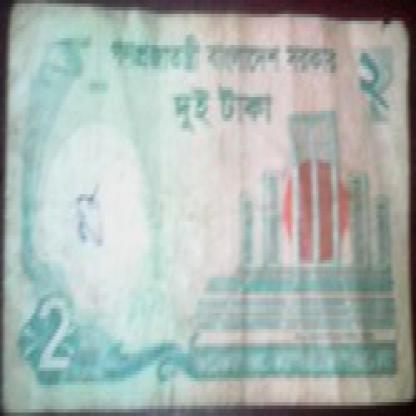two taka: (166, 69, 284, 139), (28, 291, 80, 392), (349, 38, 391, 125)
